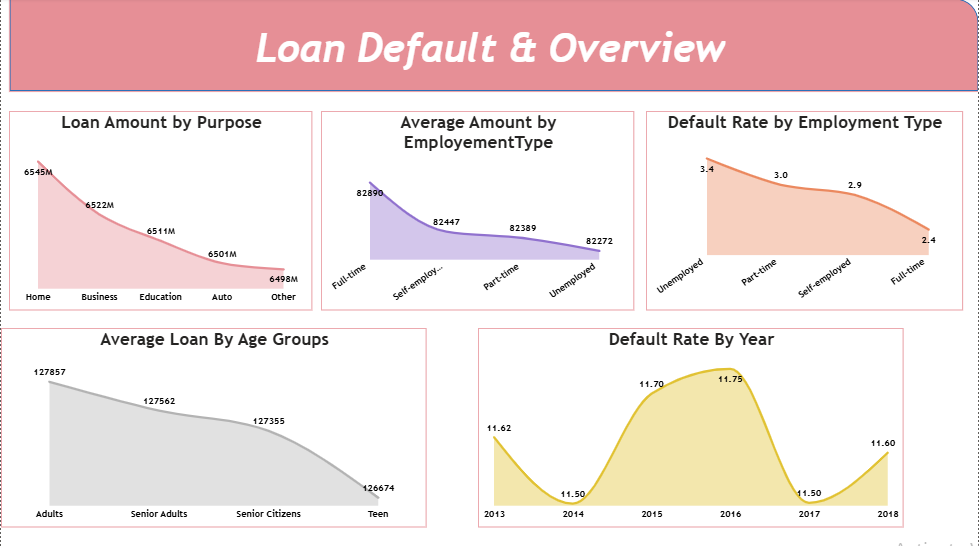

The page's visual inventory and layout, read from the dashboard file:
{"tool":"powerbi","page":{"name":"Loan Default & Overview","canvas":[1280,720],"ordinal":0},"visuals":[{"type":"shape","box":[10.1,0,1269.9,122.6],"z":0},{"type":"lineChart","title":"Loan Amount by Purpose ","fields":{"Y":["Measures Table1.Loan Amount by Purpose"],"Category":["Loan_default.LoanPurpose"]},"box":[10.1,148.3,397.4,260.6],"z":1000},{"type":"lineChart","title":"Average Amount by EmployementType","fields":{"Y":["Measures Table1.Average Income by EmployementType"],"Category":["Loan_default.EmploymentType"]},"box":[419,148.3,410.4,260.6],"z":2000},{"type":"lineChart","title":"Default Rate by Employment Type ","fields":{"Y":["Measures Table1.Default Rate by Employment Type"],"Category":["Loan_default.EmploymentType"]},"box":[843.8,148.3,414.7,260.6],"z":3000},{"type":"lineChart","title":"Average Loan By Age Groups","fields":{"Y":["Measures Table1.Average Loan By Age Group"],"Category":["Loan_default.Age Groups"]},"box":[0,432,557.3,260.6],"z":4000},{"type":"lineChart","title":"Default Rate By Year","fields":{"Y":["Measures Table1.Default Rate BY Year"],"Category":["Loan_default.Year"]},"box":[625,432,557.3,260.6],"z":5000}]}

Visuals, with their boxes in screenshot pixels (x1, y1, x2, y2), scaled from the page's 1280x720 canvas onto the 979x546 screenshot:
shape: select_region(8, 0, 978, 93)
"Loan Amount by Purpose " lineChart: select_region(8, 112, 312, 310)
"Average Amount by EmployementType" lineChart: select_region(320, 112, 634, 310)
"Default Rate by Employment Type " lineChart: select_region(645, 112, 963, 310)
"Average Loan By Age Groups" lineChart: select_region(0, 328, 426, 525)
"Default Rate By Year" lineChart: select_region(478, 328, 904, 525)
